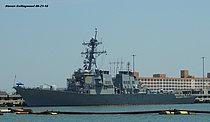MIL_Ship: (12, 37, 197, 107)
